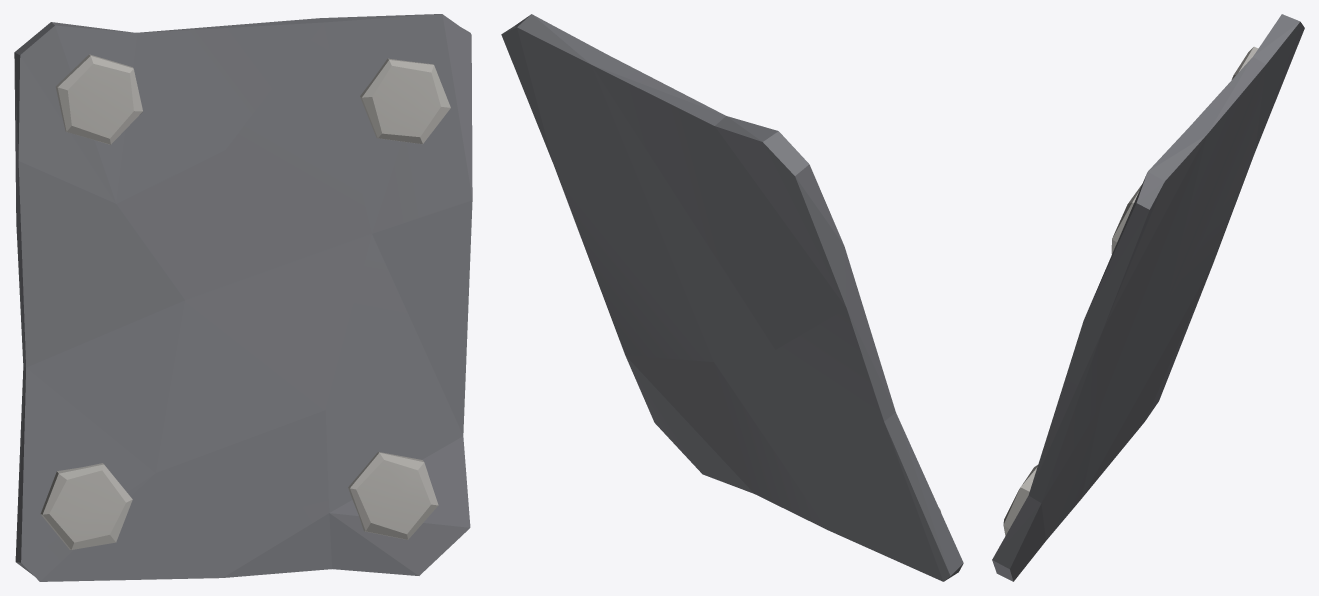
File: trinketMetalPlate02.fbx
3 renders of one model, left to right at view 1: azimuth 30°, elevation 25°; view 2: azimuth 150°, elevation 25°; view 3: azimuth 270°, elevation 25°, orthographic. The views are drawn at different scales.
Visible parts, largest first — view 1: trinketMetalPlate02; view 2: trinketMetalPlate02; view 3: trinketMetalPlate02.
Boxes of the visible parts, bbox=[...] form: trinketMetalPlate02: bbox=[14, 14, 472, 581]; trinketMetalPlate02: bbox=[501, 14, 963, 581]; trinketMetalPlate02: bbox=[992, 14, 1304, 581].
Bounding box in the file's own units: 1.26 × 1.32 × 0.8007.
